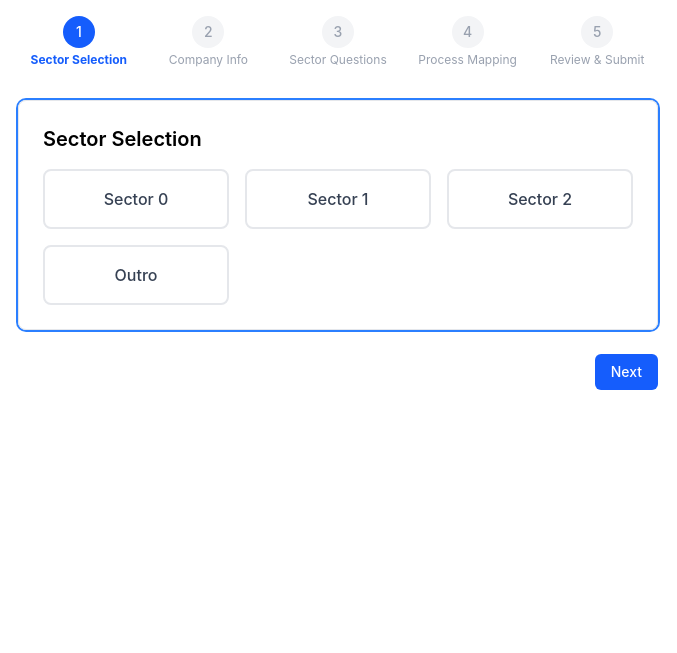
Test: ScanForm — Navigation › navigates forward with Next button
Click the button "Sector 0": {"x": 136, "y": 199} x1=43 y1=169 x2=229 y2=229
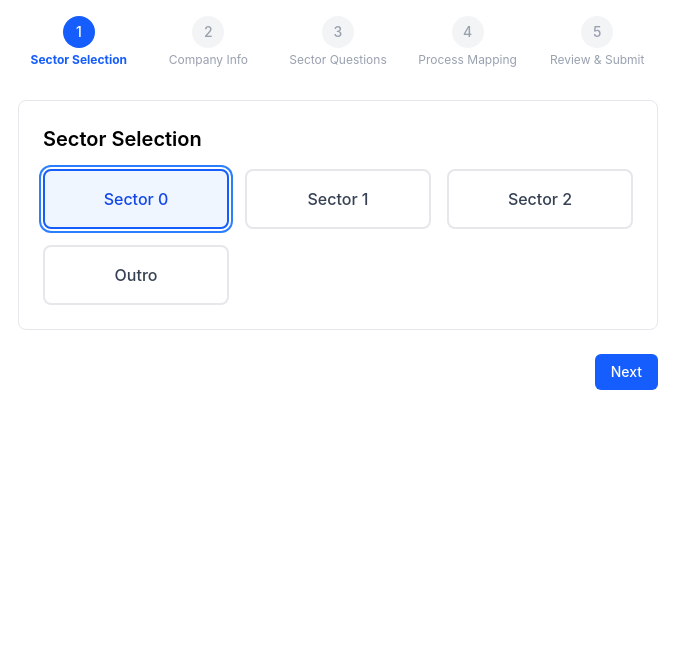
Click the button "Next": {"x": 626, "y": 372} x1=595 y1=354 x2=658 y2=390
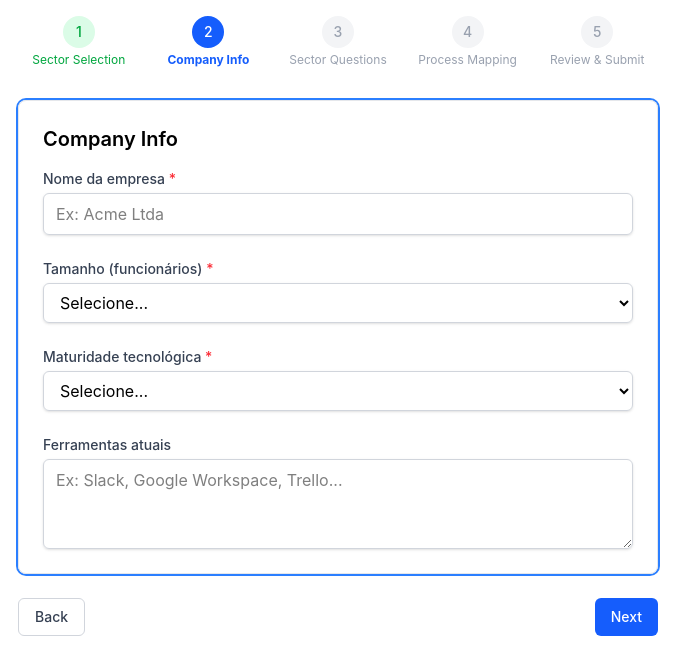
Now the element with test id "step-2" is shown
